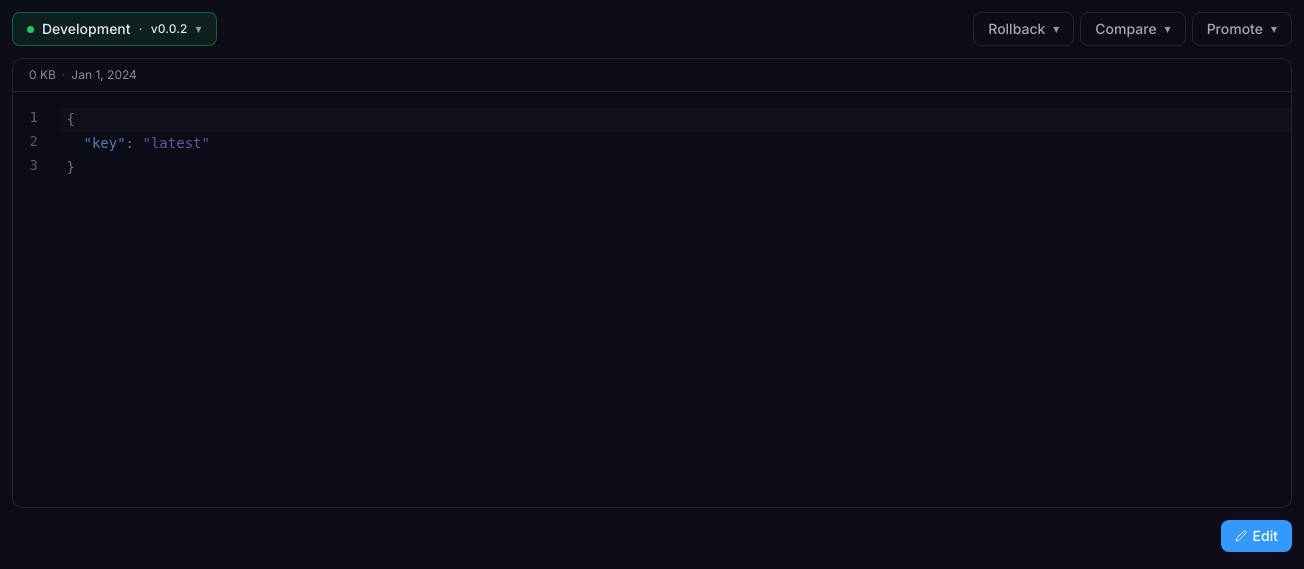
Scenario: StateTab – compare mode › shows environment dropdown with version under selected env
// Open the dropdown
Click the button "Development · v0.0.2 ▾": (114, 29) x1=12 y1=12 x2=216 y2=46
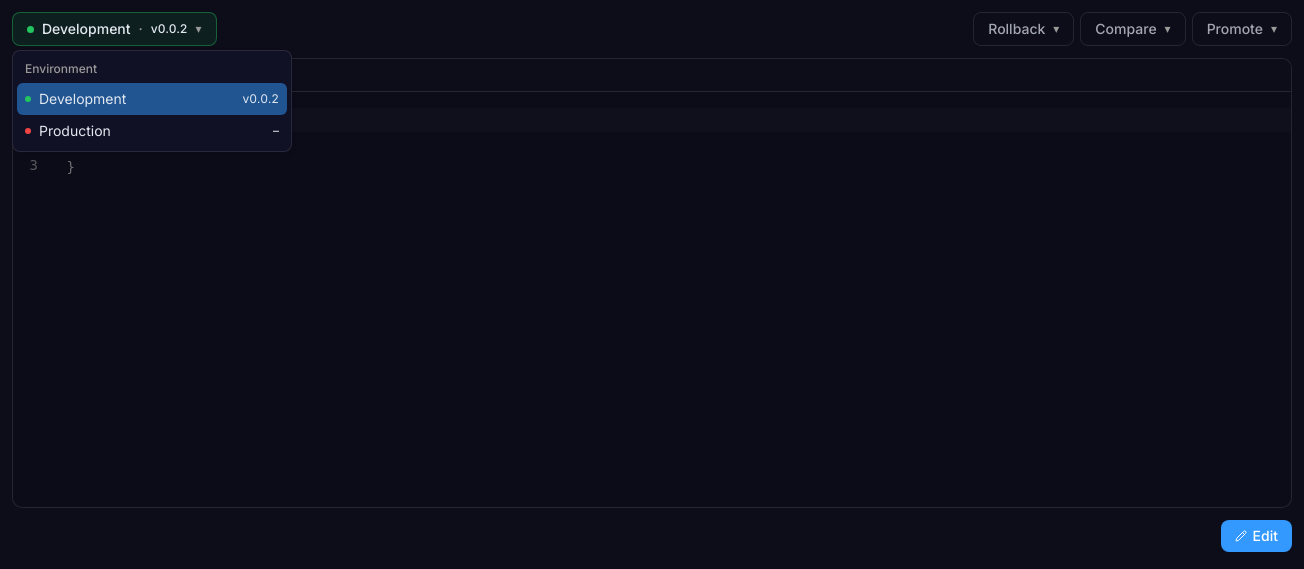
Expected: the menu item "Development v0.0.2" is shown, x1=17 y1=83 x2=287 y2=115
Expected: the menu item "Production –" is shown, x1=25 y1=122 x2=279 y2=139
